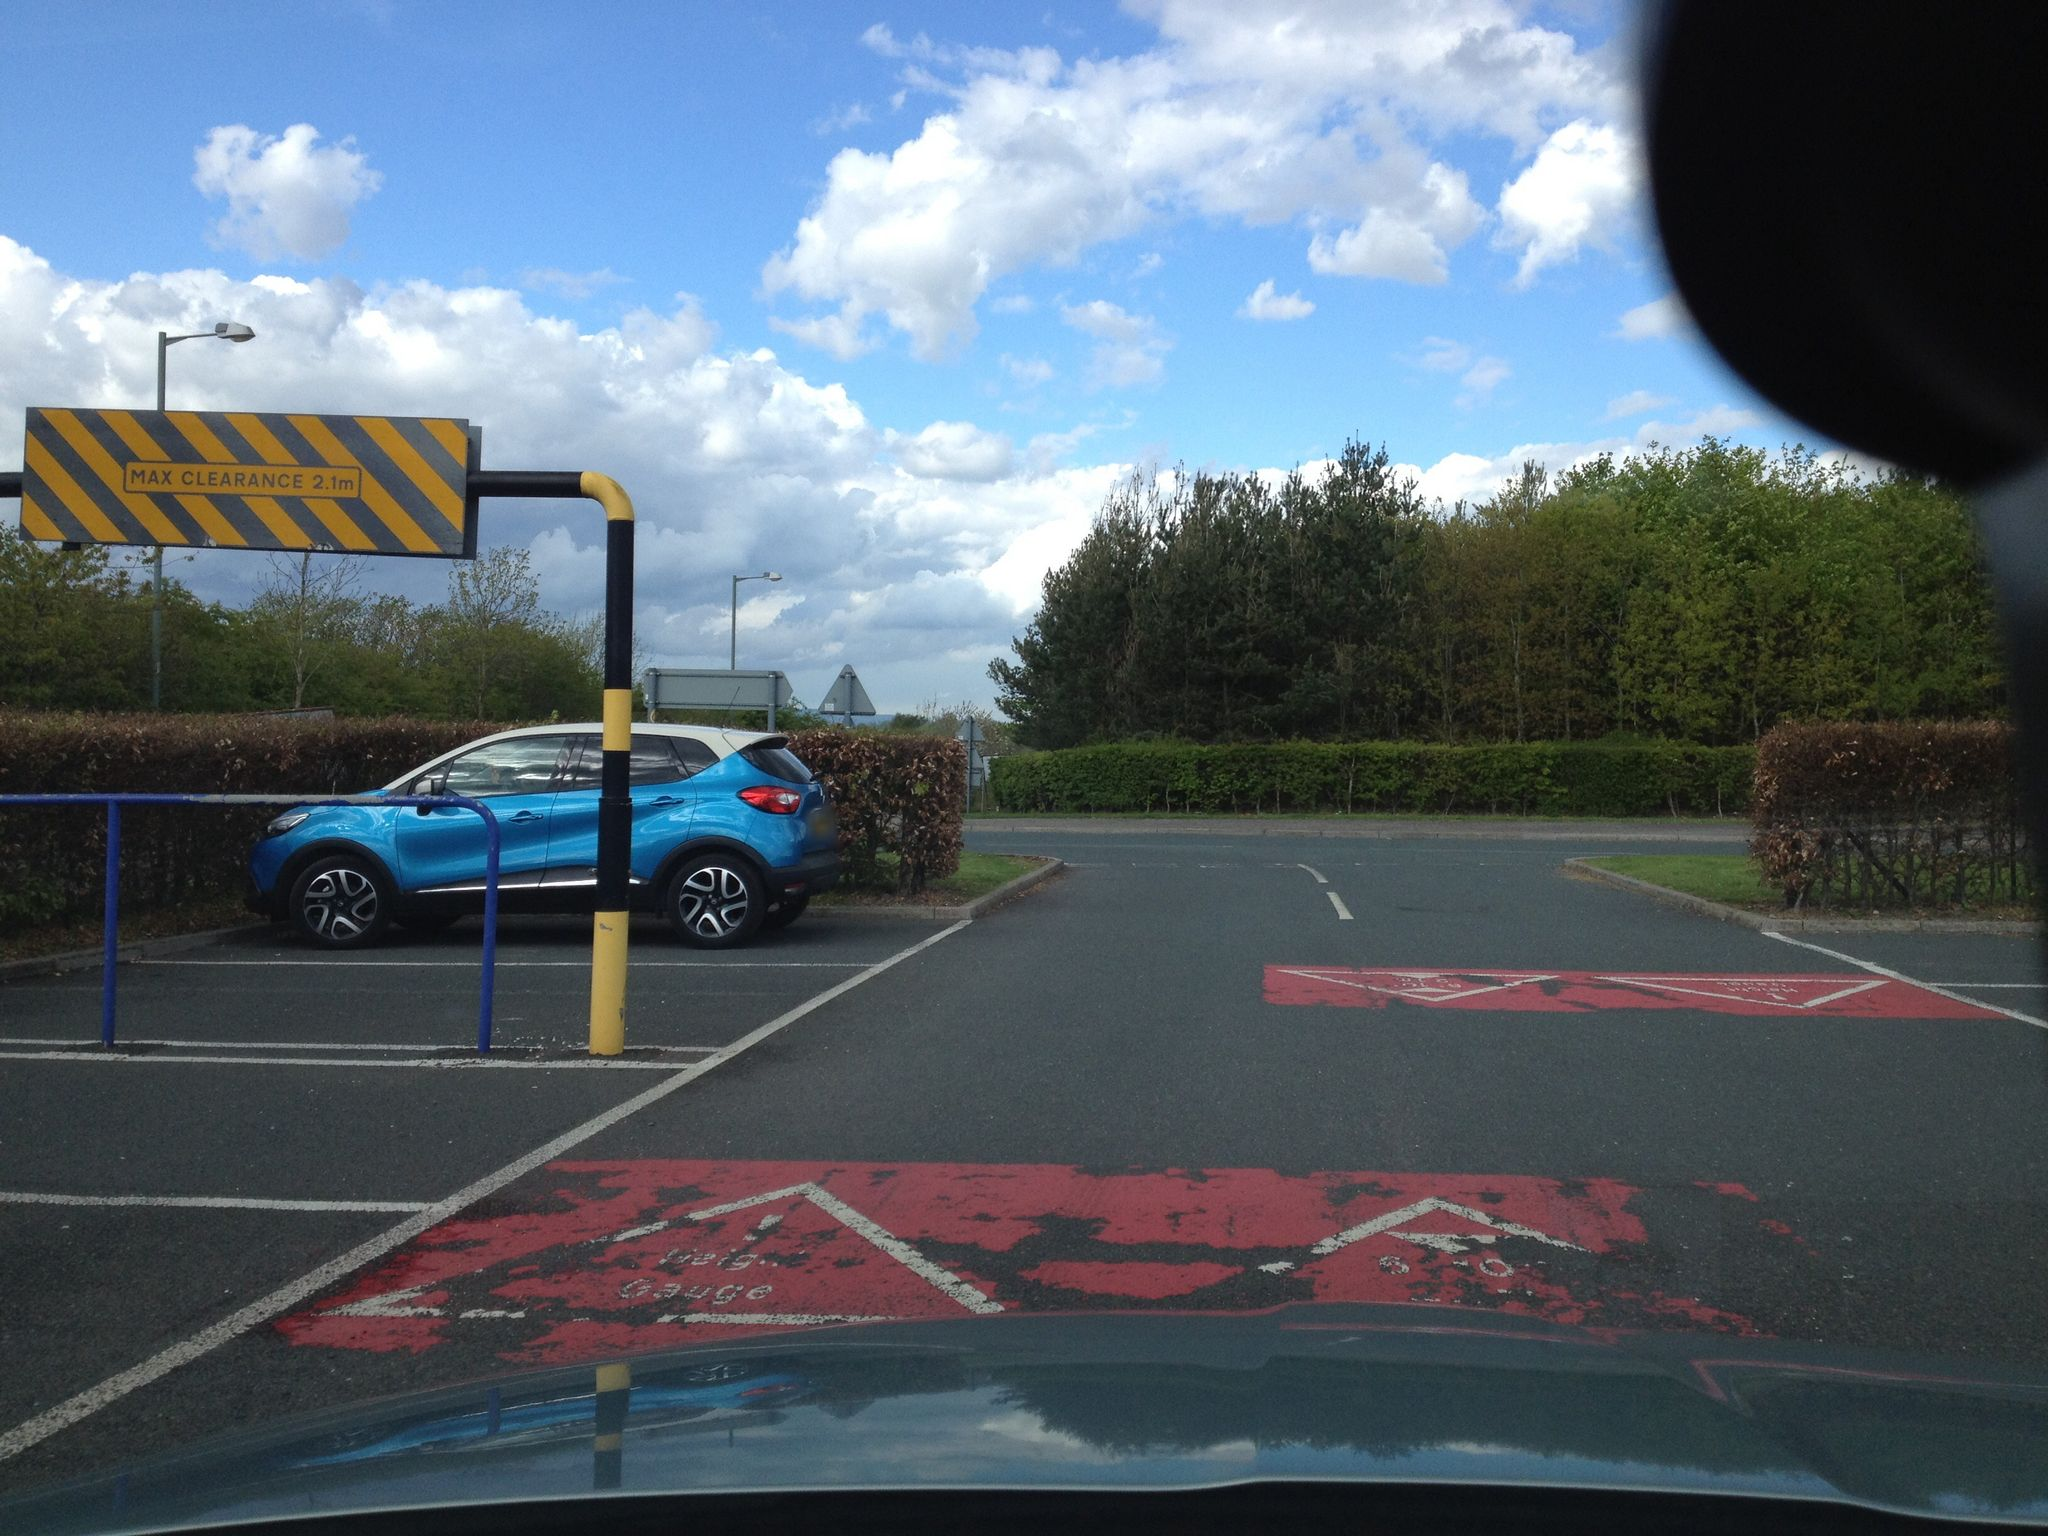car: (240, 716, 840, 949)
